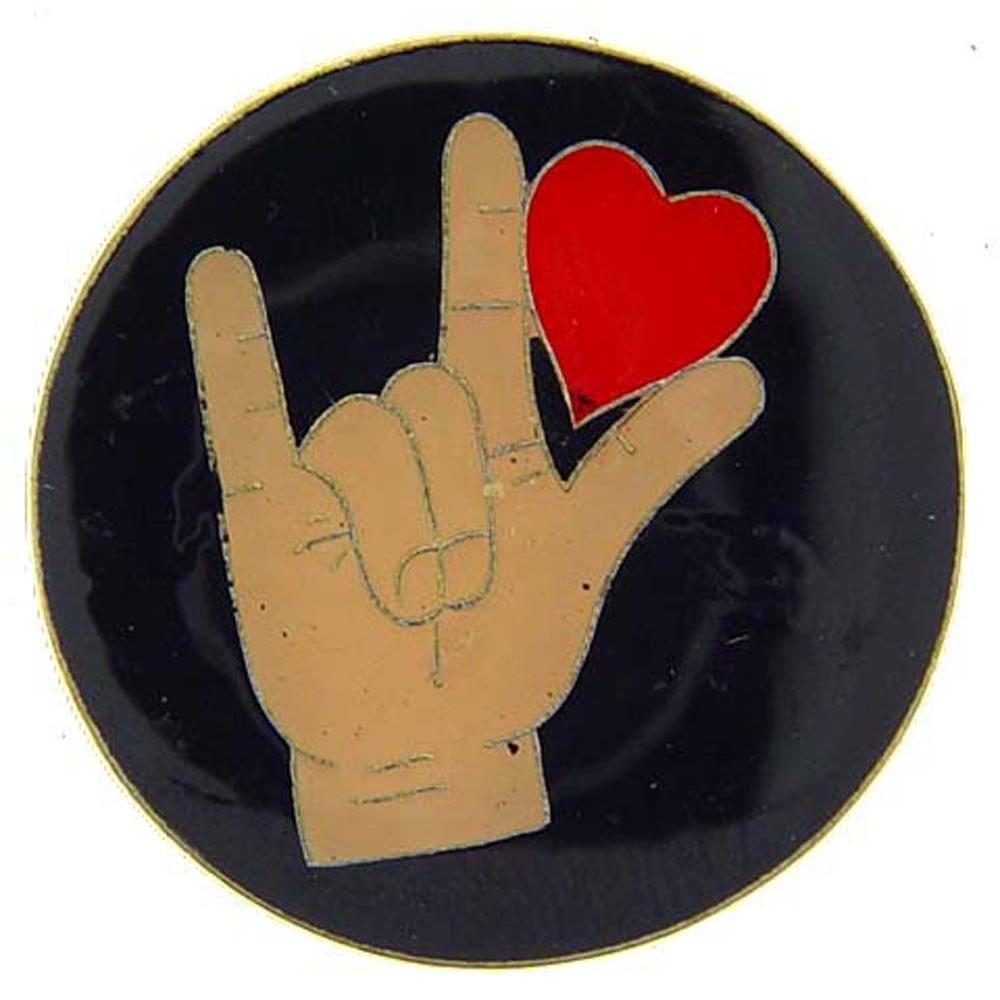Love_you: (182, 120, 766, 872)
